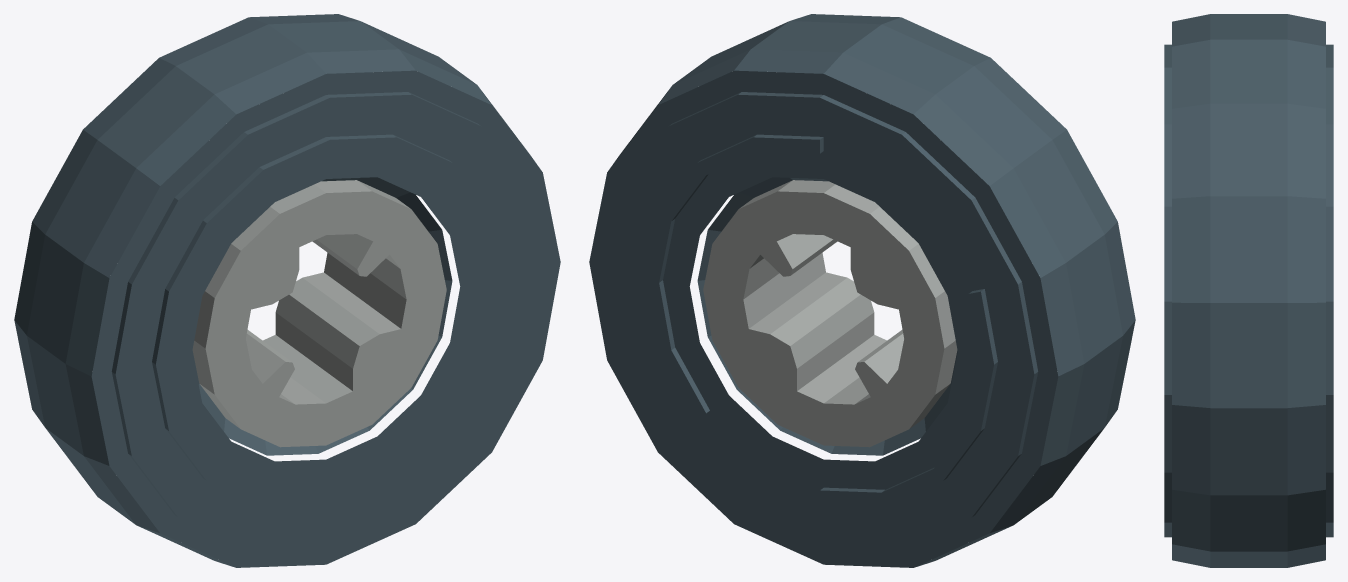
The picture shows the model from 3 angles, left to right: view 1: azimuth 30°, elevation 25°; view 2: azimuth 150°, elevation 25°; view 3: azimuth 270°, elevation 25°; orthographic projection.
Parts seen in each view (by area): view 1: world; view 2: world; view 3: world.
Part boxes in pixels (bbox=[...]): world: bbox=[14, 14, 560, 567]; world: bbox=[589, 14, 1135, 567]; world: bbox=[1164, 14, 1333, 567].
Bounding box in the file's own units: 0.0144 × 0.0144 × 0.0044.
